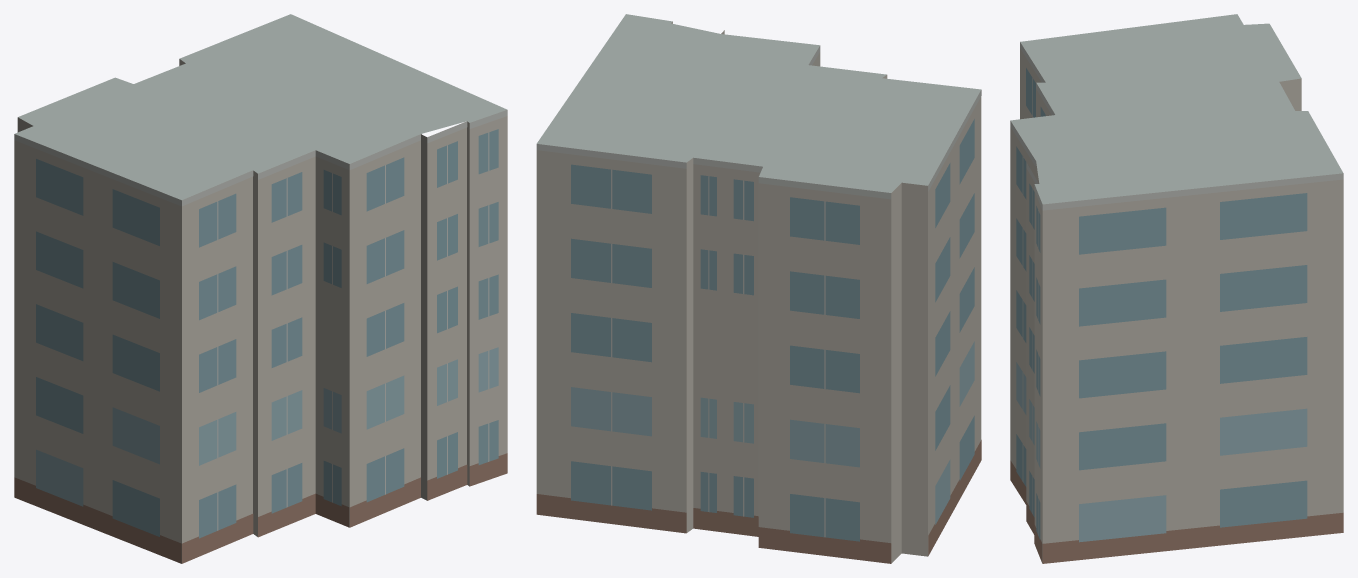
Rendered from survey-upis-32618675.glb.
The picture shows the model from 3 angles, left to right: view 1: azimuth 30°, elevation 25°; view 2: azimuth 150°, elevation 25°; view 3: azimuth 270°, elevation 25°; orthographic projection. The views are drawn at different scales.
Parts seen in each view (by area): view 1: survey-upis-32618675.tmp; view 2: survey-upis-32618675.tmp; view 3: survey-upis-32618675.tmp.
Part boxes in pixels (left/top/right/bottom): survey-upis-32618675.tmp: left=14, top=14, right=507, bottom=563; survey-upis-32618675.tmp: left=536, top=14, right=981, bottom=563; survey-upis-32618675.tmp: left=1010, top=14, right=1343, bottom=563.
Bounding box in the file's own units: 16.26 × 14.3 × 12.03.
